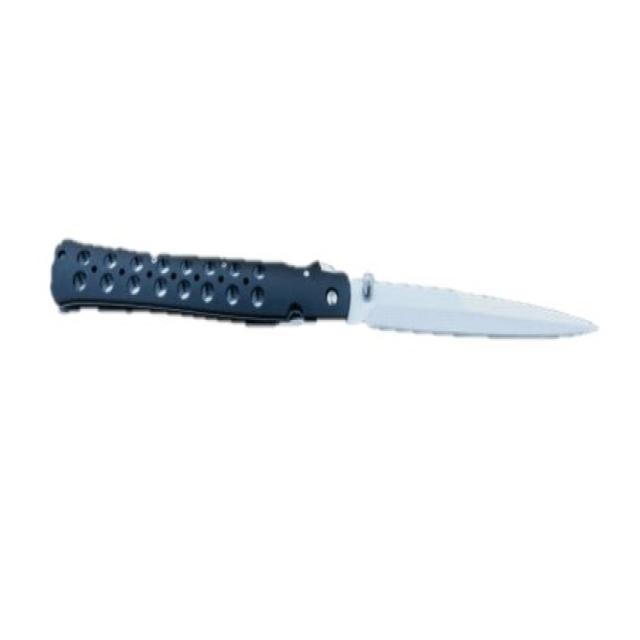knife: (37, 259, 601, 341)
